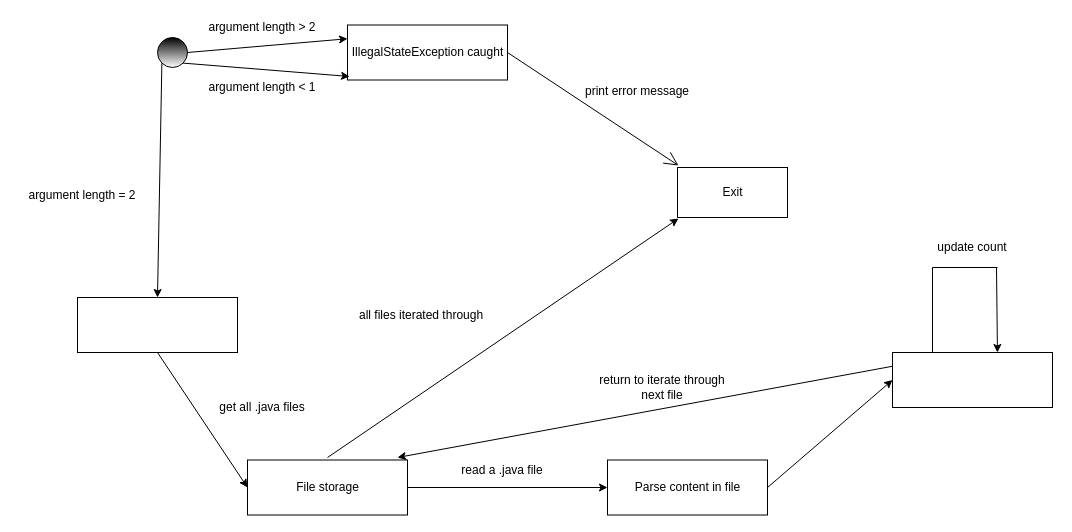
Some shapes in this 1072 by 532 pixel diagram are drawn without their labels. Here are the shapes that lost their labels. From the top down, the box of each, then its label:
(76, 296, 238, 352): Directory and Type stated
(892, 352, 1052, 408): Reference/Declaration Counter
